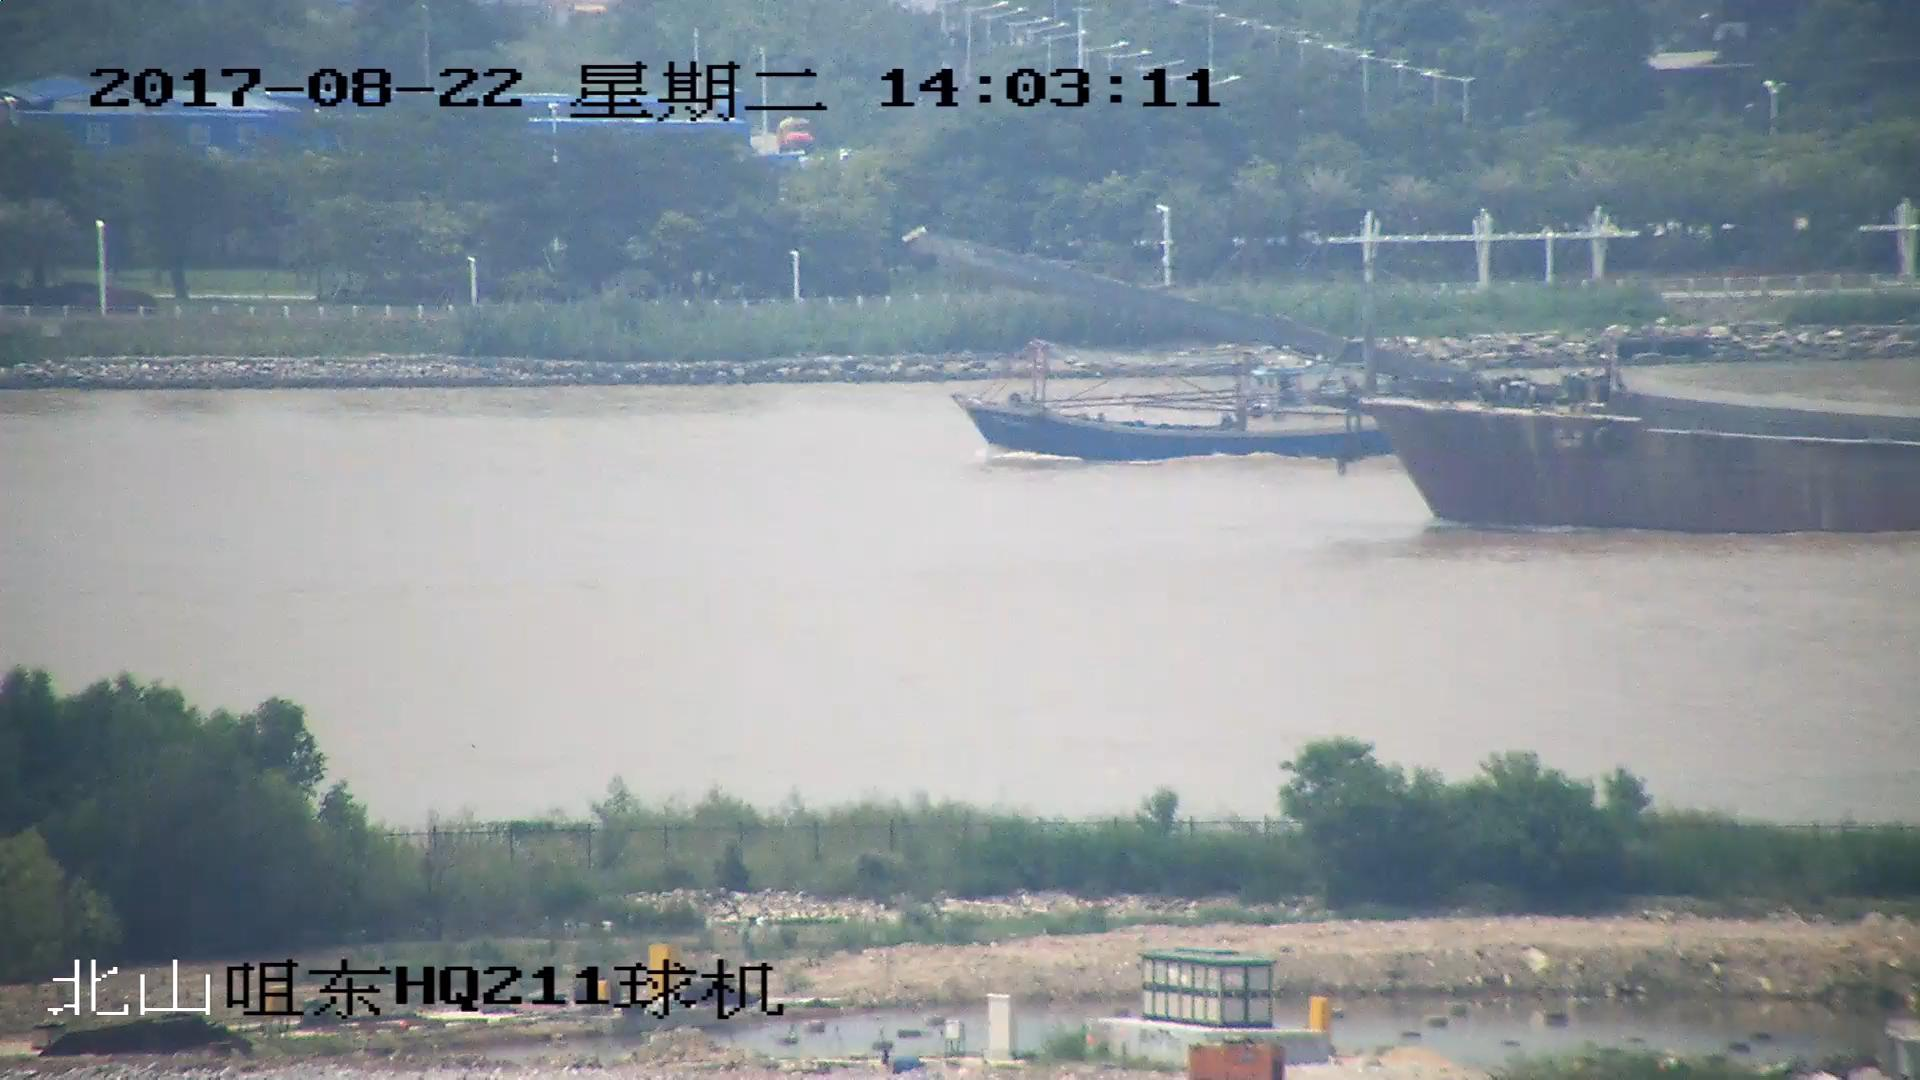Ship: (913, 225, 1920, 537), (956, 340, 1396, 465)
